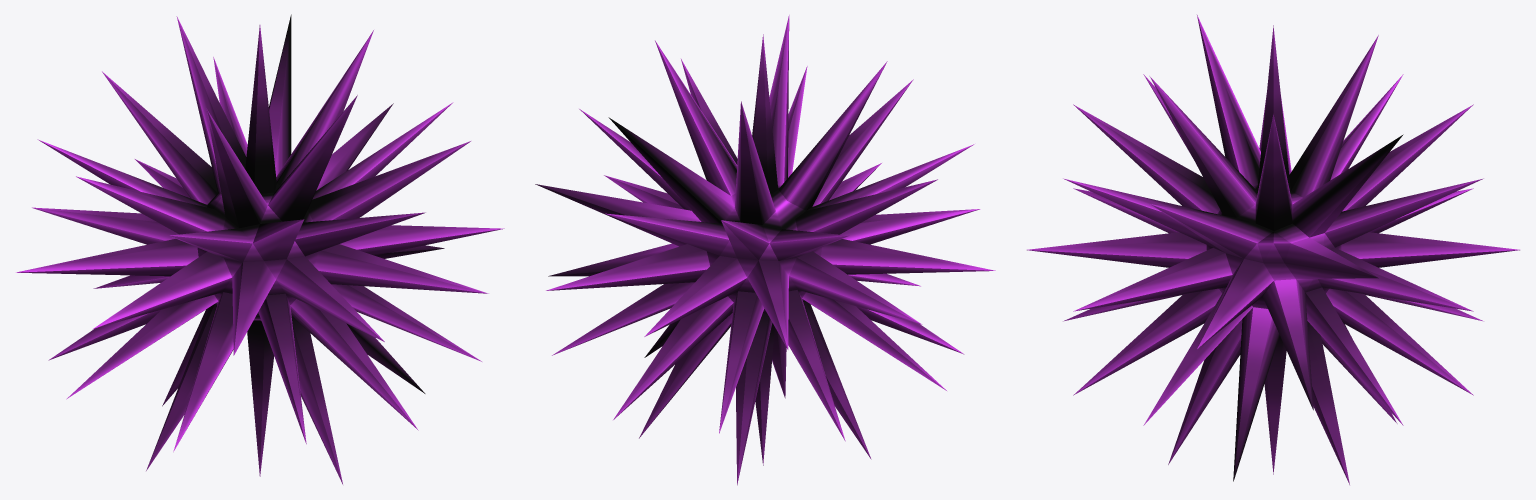
File: spikes.glb
The picture shows the model from 3 angles, left to right: view 1: azimuth 30°, elevation 25°; view 2: azimuth 150°, elevation 25°; view 3: azimuth 270°, elevation 25°; orthographic projection. The views are drawn at different scales.
Parts seen in each view (by area): view 1: Icosphere; view 2: Icosphere; view 3: Icosphere.
Part boxes in pixels (<box>): Icosphere: <box>16,14,504,484</box>; Icosphere: <box>535,15,995,485</box>; Icosphere: <box>1027,15,1519,484</box>.
Size of the model in its own units: 6.69 by 7.03 by 7.03.
Materials: 1 (1 with a texture image).
